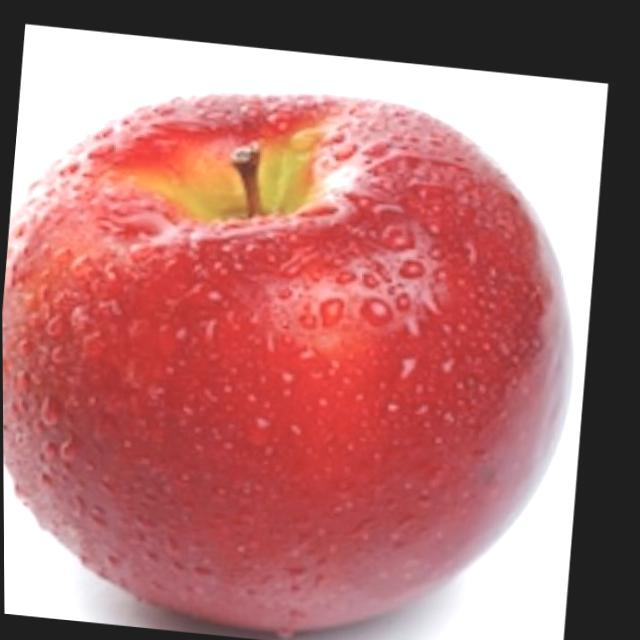Apple: (0, 59, 598, 640)
